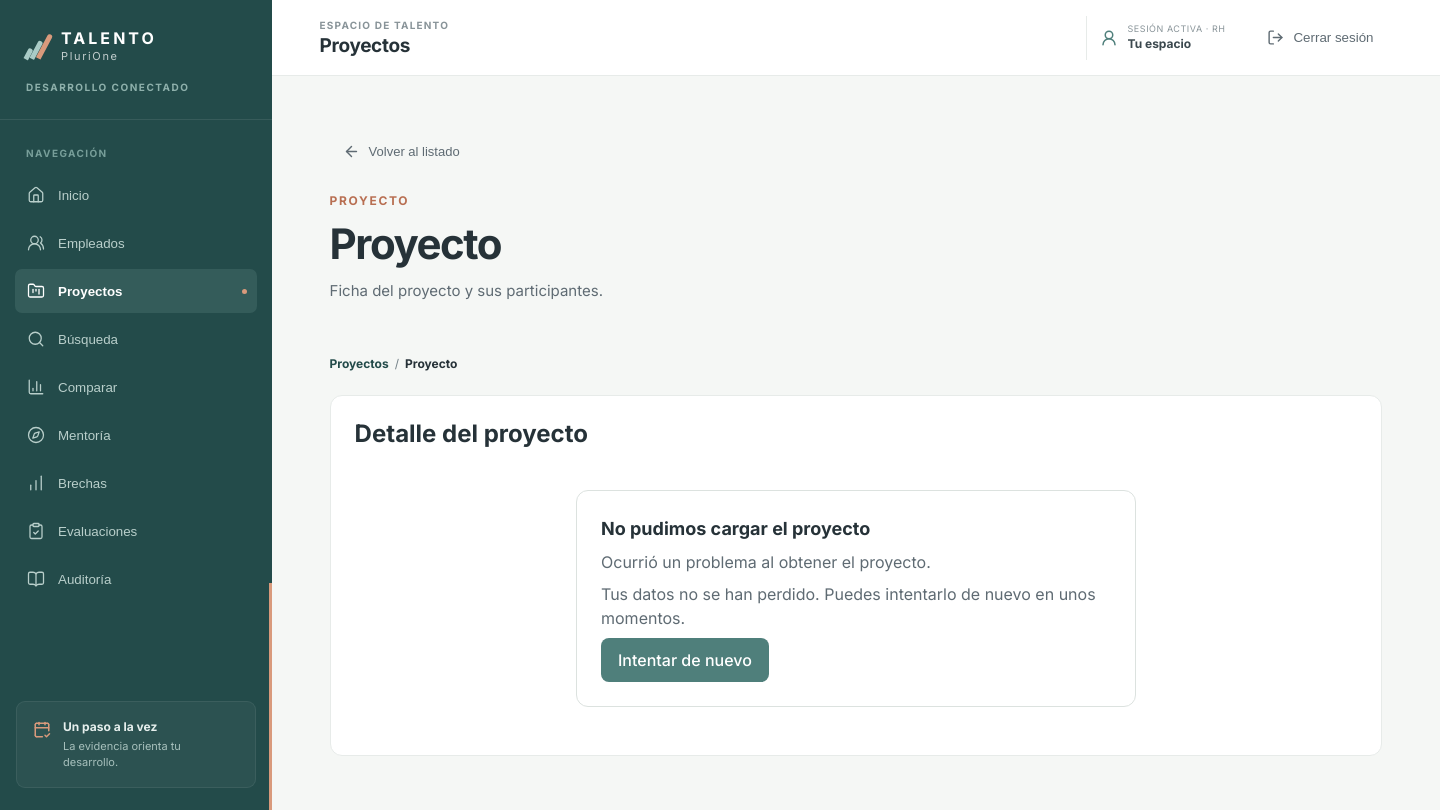
Test: RH-02.3 — App: rutas reales de Proyectos (/proyectos, /proyectos/:id) › entrada directa a un proyecto inexistente muestra el error y permite volver
Check: the heading "No pudimos cargar el proyecto" is shown, box [601,518,870,539]
Step 1. Click the button "Volver al listado" → click(401, 152), box [330,134,473,170]
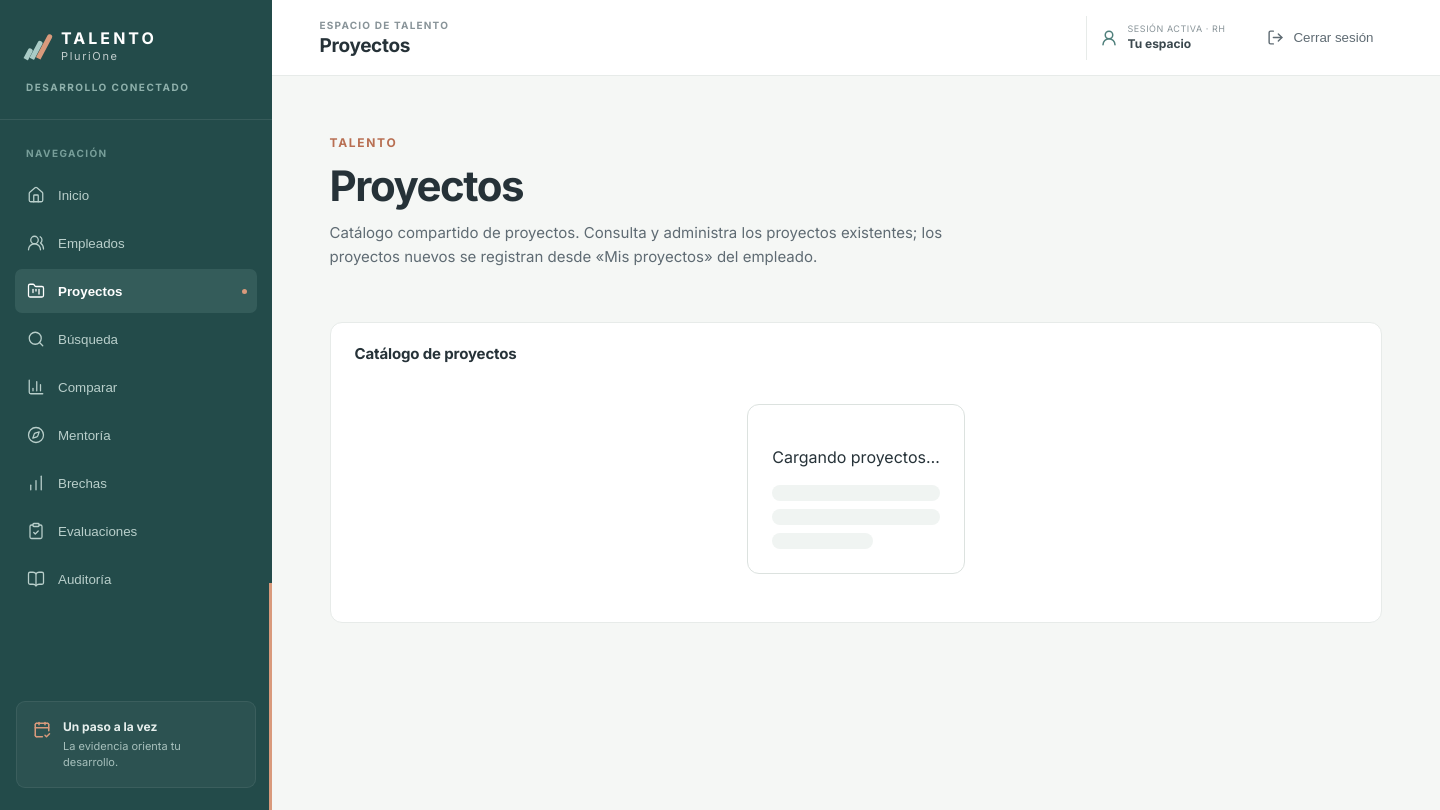
Check: the heading "No pudimos cargar el proyecto" is gone
